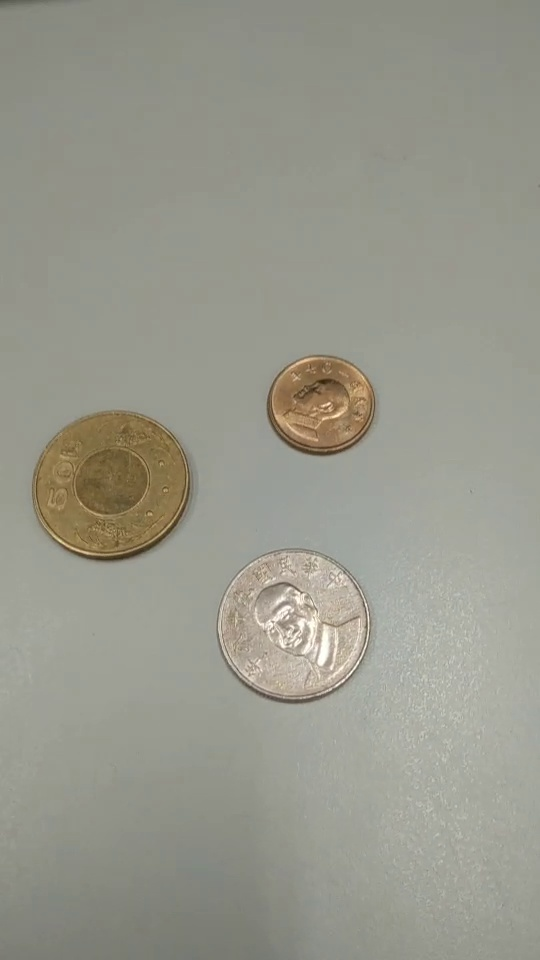NT$ 1: (265, 354, 376, 455)
NT$ 10: (217, 549, 372, 705)
NT$ 50: (34, 409, 193, 560)
